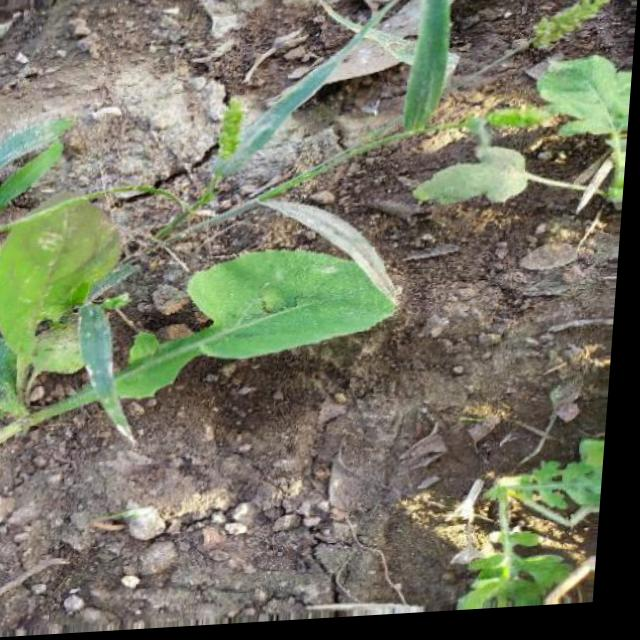weed: (0, 187, 419, 418), (419, 41, 636, 241), (455, 447, 612, 612)
